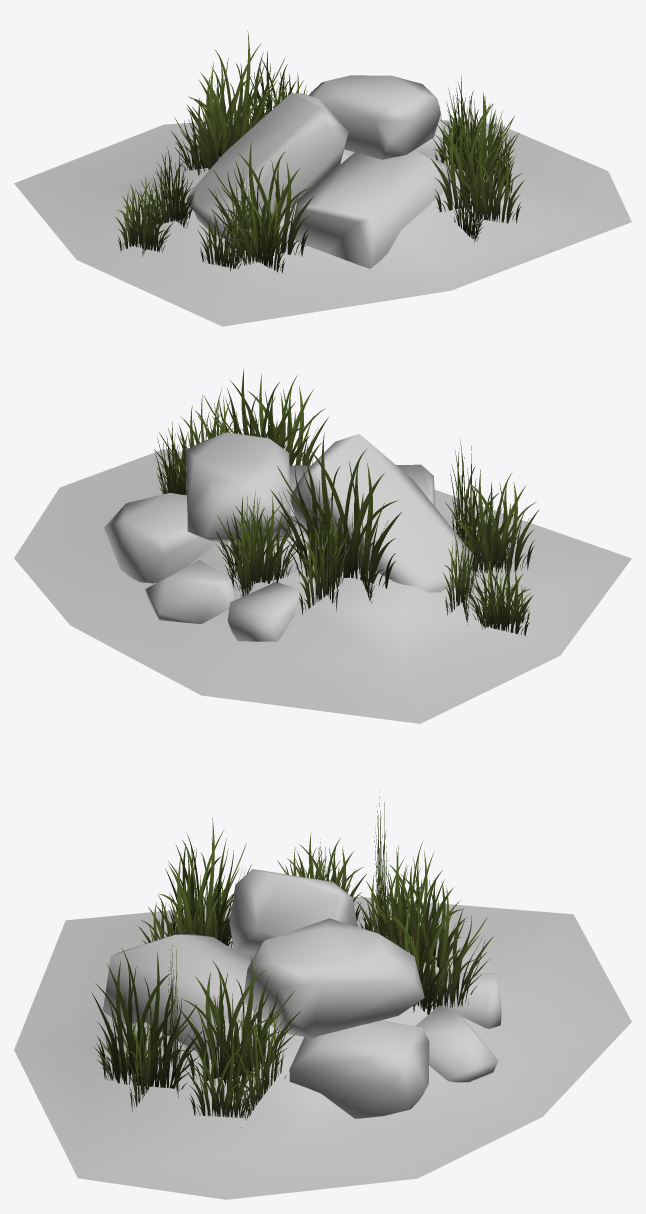
File: Soil_Bricks_Grass_02.fbx
3 renders of one model, top to bottom at view 1: azimuth 30°, elevation 25°; view 2: azimuth 150°, elevation 25°; view 3: azimuth 270°, elevation 25°, orthographic. The views are drawn at different scales.
Parts seen in each view (by area): view 1: Soil_Bricks_Grass_02_LOD0; view 2: Soil_Bricks_Grass_02_LOD0; view 3: Soil_Bricks_Grass_02_LOD0.
Boxes of the visible parts, x1,y1,x2,y2 form: Soil_Bricks_Grass_02_LOD0: (14, 31, 631, 326); Soil_Bricks_Grass_02_LOD0: (14, 369, 631, 723); Soil_Bricks_Grass_02_LOD0: (14, 791, 631, 1199).
Size of what is drawn, in the model's own units: 5.44 by 4.66 by 1.86.
